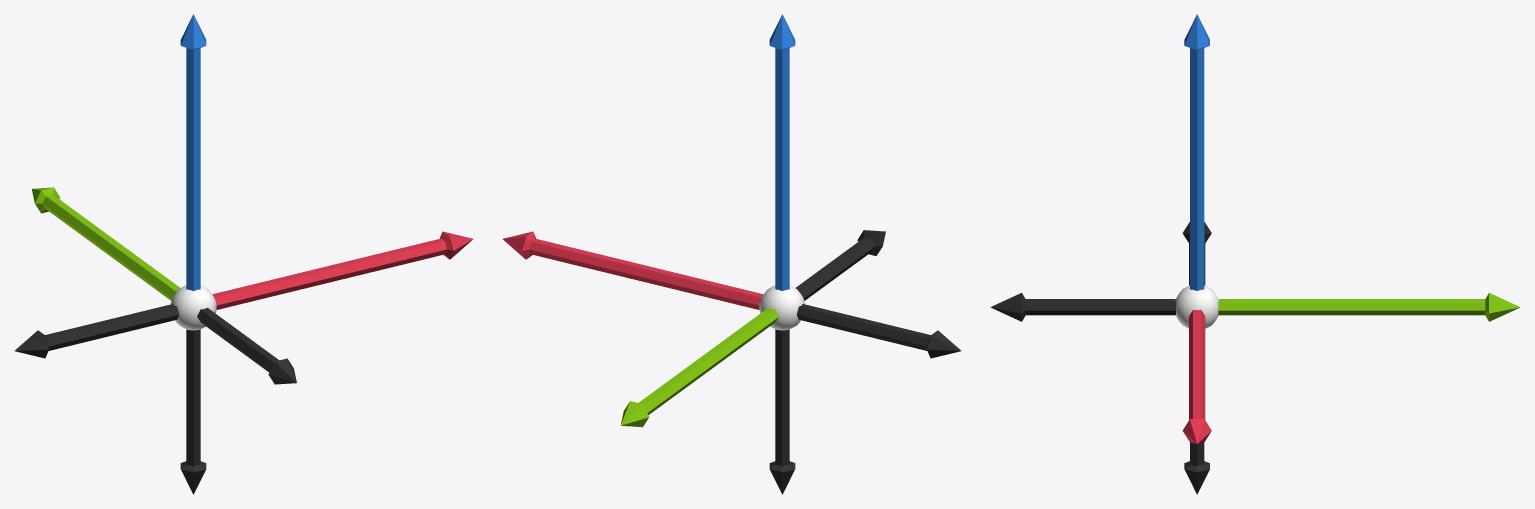
The model's file is AnchorModel.glb.
3 renders of one model, left to right at view 1: azimuth 30°, elevation 25°; view 2: azimuth 150°, elevation 25°; view 3: azimuth 270°, elevation 25°, orthographic.
Visible parts, largest first — view 1: Cylinder; view 2: Cylinder; view 3: Cylinder.
Part boxes in pixels (x1,y1,x2,y2): Cylinder: (14, 14, 473, 494); Cylinder: (502, 14, 961, 494); Cylinder: (990, 14, 1520, 494).
Bounding box in the file's own units: 22.76 × 22.76 × 22.76.
